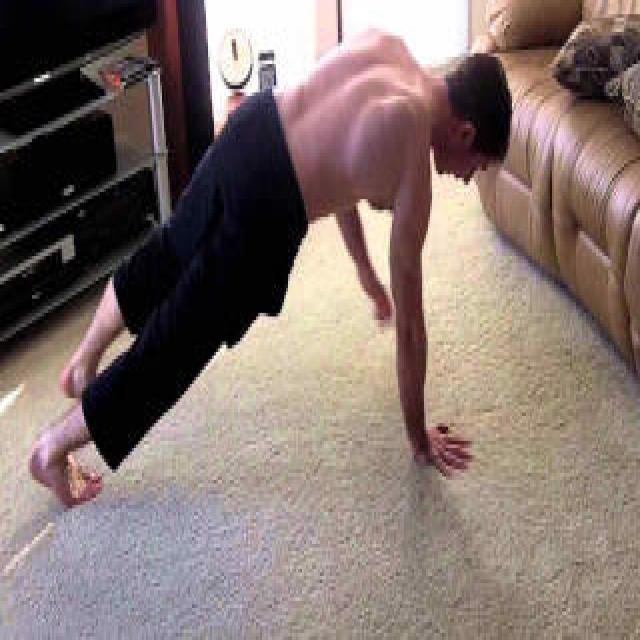yoga-pose plank: (44, 32, 508, 484)
